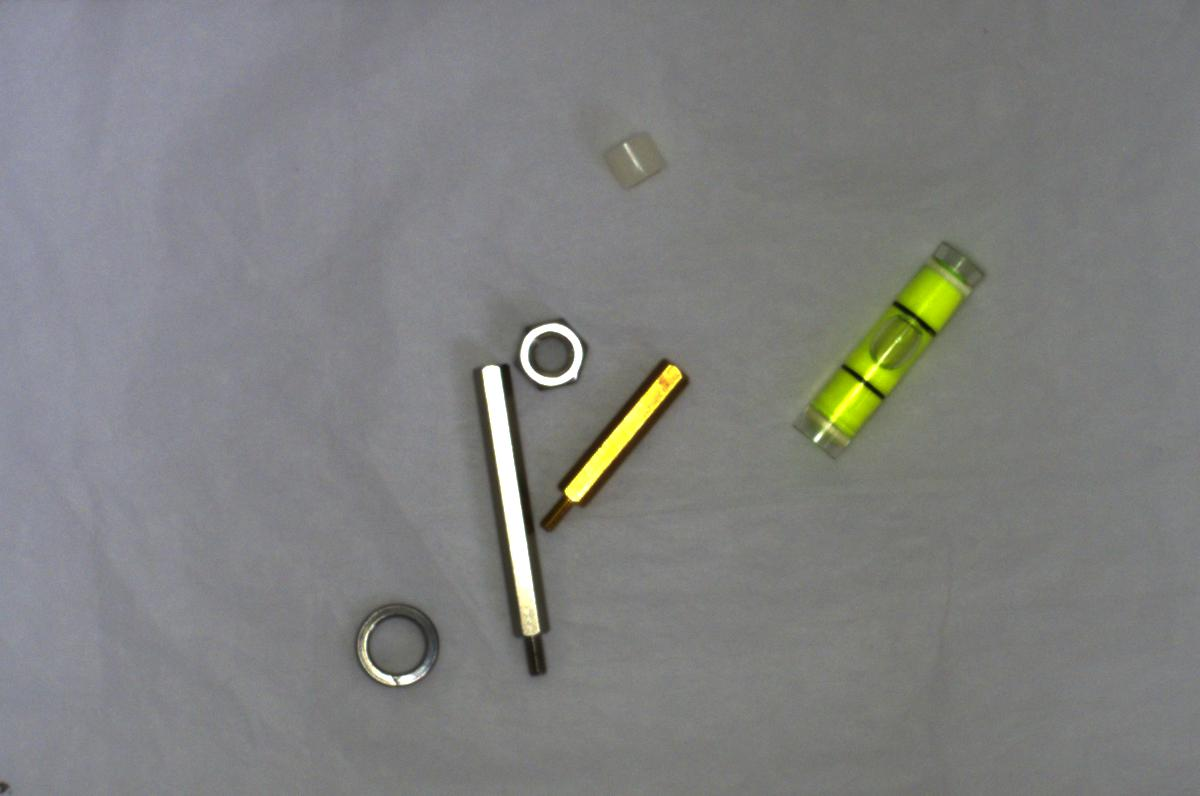Hexagon nut: (510, 310, 597, 395)
Hexagon pillar: (534, 360, 692, 534)
Hexagonal steel column: (467, 355, 554, 682)
Horizontal bubble: (786, 235, 986, 449)
Plastic cushion pillar: (593, 120, 671, 198)
Spring washer: (350, 594, 447, 700)
